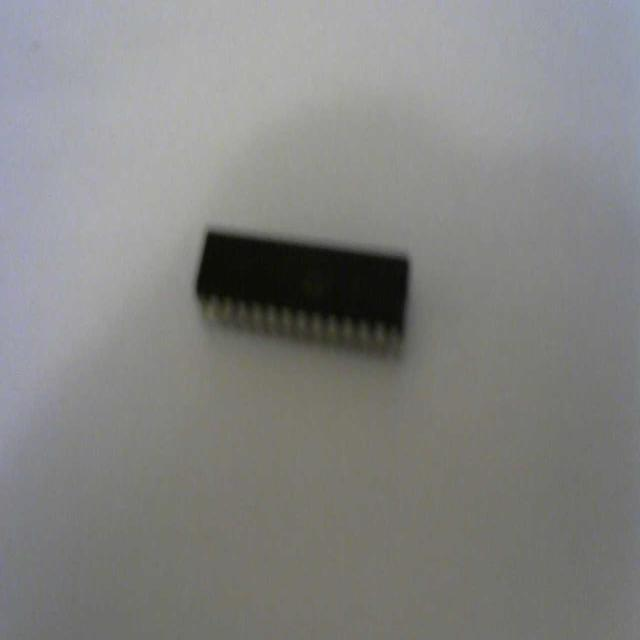atmega: (193, 222, 412, 364)
